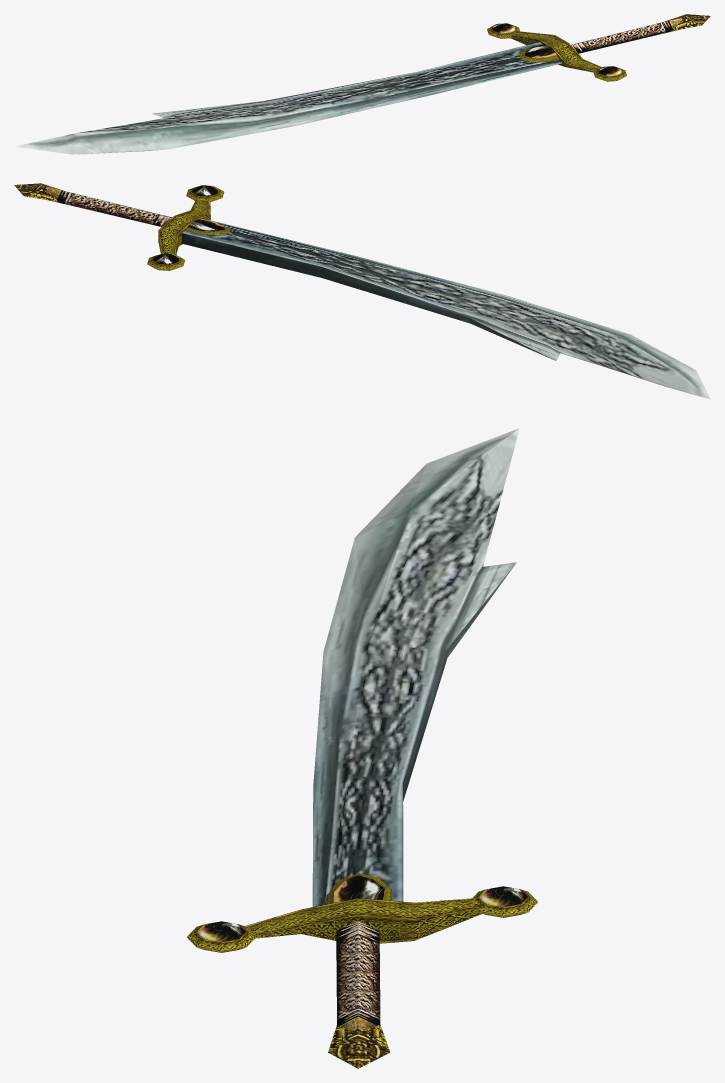
File: ITMW_070_2H_SWORD_09.glb
The picture shows the model from 3 angles, top to bottom: view 1: azimuth 30°, elevation 25°; view 2: azimuth 150°, elevation 25°; view 3: azimuth 270°, elevation 25°; orthographic projection. The views are drawn at different scales.
Parts seen in each view (by area): view 1: ITMW_070_2H_SWORD_09; view 2: ITMW_070_2H_SWORD_09; view 3: ITMW_070_2H_SWORD_09.
Part boxes in pixels (<box>): ITMW_070_2H_SWORD_09: <box>15,14,710,154</box>; ITMW_070_2H_SWORD_09: <box>14,183,710,399</box>; ITMW_070_2H_SWORD_09: <box>187,428,537,1068</box>.
Bounding box in the file's own units: 1.48 × 0.0445 × 0.344.
Materials: 3 (3 with a texture image).
